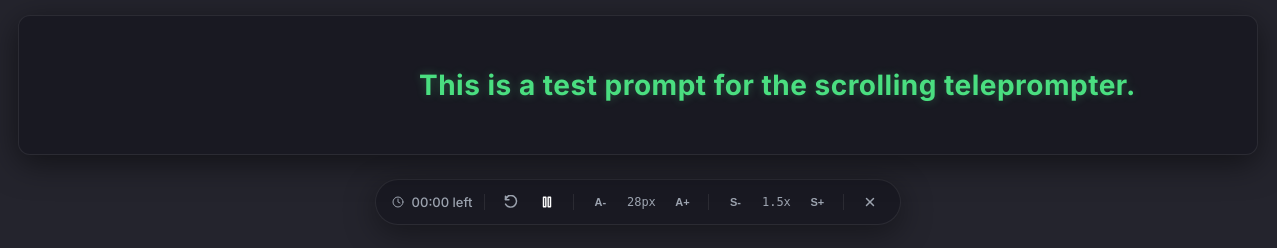
Test: Teleprompter.vue › increases and decreases speed on button click
Expected: the text "1.5x" is shown, [762,195,791,209]
What coordinates should you click on to do the following:
click the button with class "btn-tool" showing "S+"
I would click on:
 (817, 202)
Its box is [803,188,831,216].
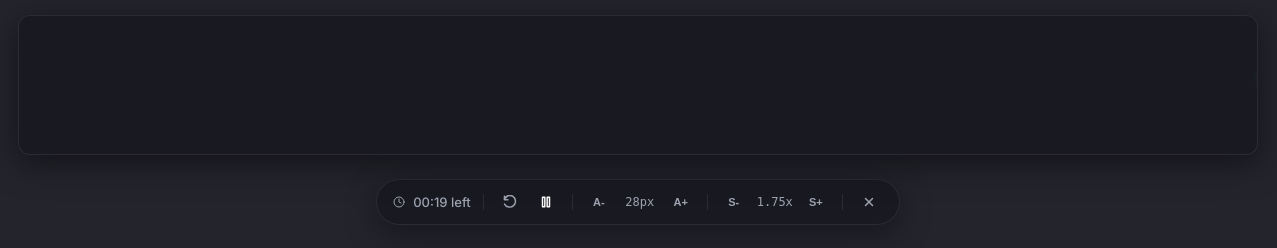
Now the text "1.75x" is shown, box [756,195,794,209]
What coordinates should you click on to do the following:
click the button with class "btn-tool" showing "S-"
I would click on:
 (734, 202)
Its box is [720,188,748,216].
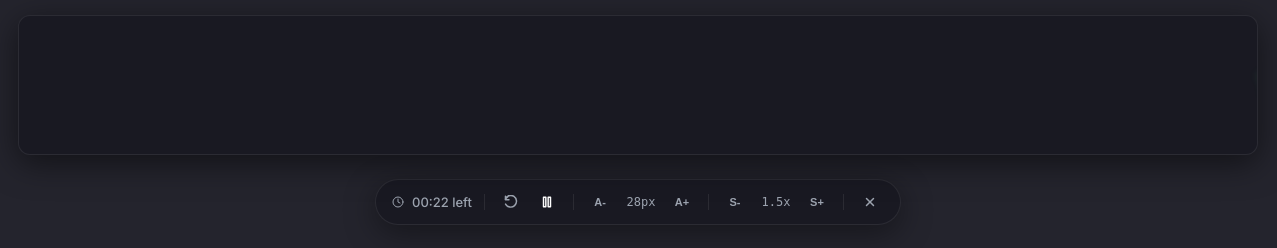
What coordinates should you click on to do the following:
click the button with class "btn-tool" showing "S-"
I would click on:
 (735, 202)
Its box is [721,188,749,216].
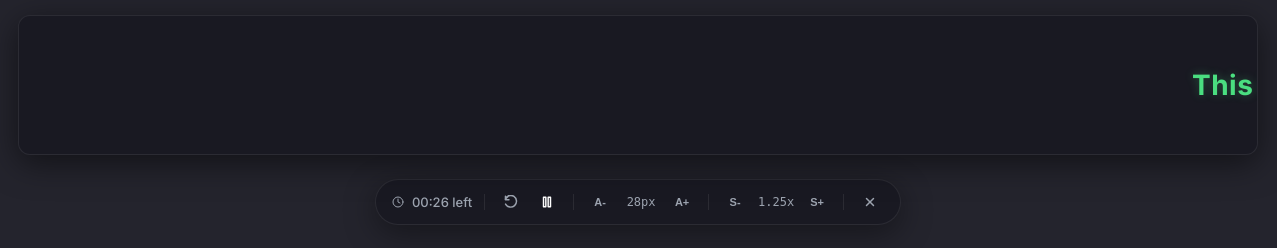
Now the text "1.25x" is shown, box [757,195,795,209]
